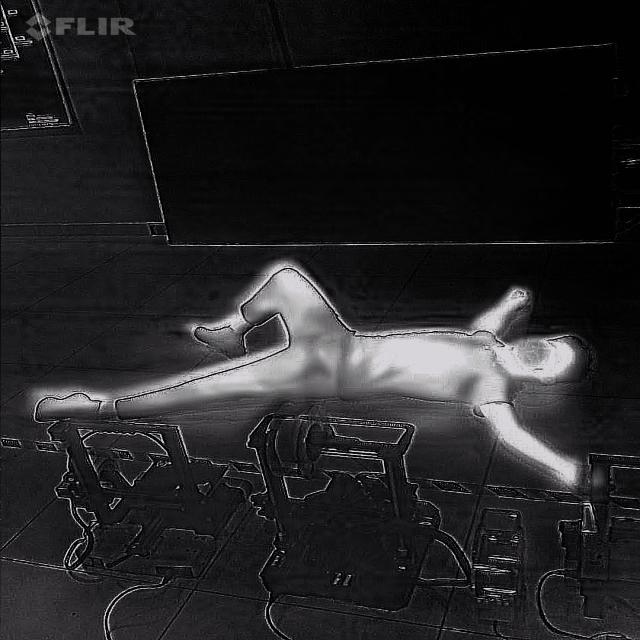Victim: (11, 258, 620, 502)
